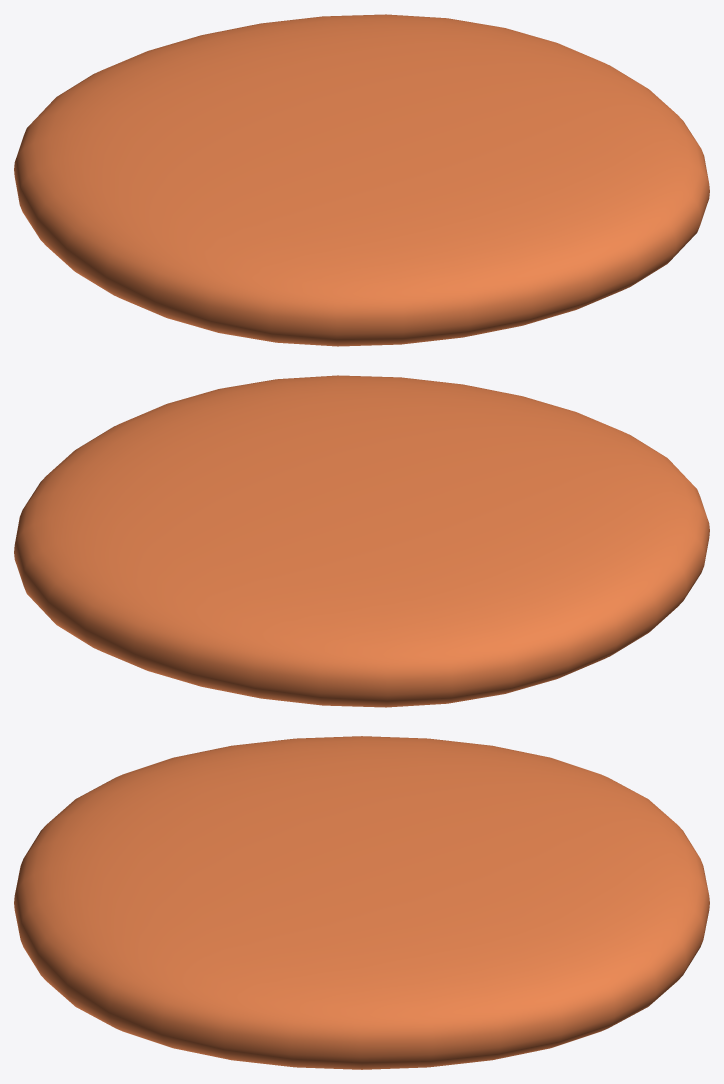
Rendered from Patty.glb.
The picture shows the model from 3 angles, top to bottom: view 1: azimuth 30°, elevation 25°; view 2: azimuth 150°, elevation 25°; view 3: azimuth 270°, elevation 25°; orthographic projection. The views are drawn at different scales.
Parts seen in each view (by area): view 1: Carne; view 2: Carne; view 3: Carne.
Part boxes in pixels (bbox=[...]): Carne: bbox=[14, 14, 709, 346]; Carne: bbox=[14, 375, 709, 707]; Carne: bbox=[14, 736, 709, 1069].
Size of the model in its own units: 1.96 by 0.3403 by 1.96.
